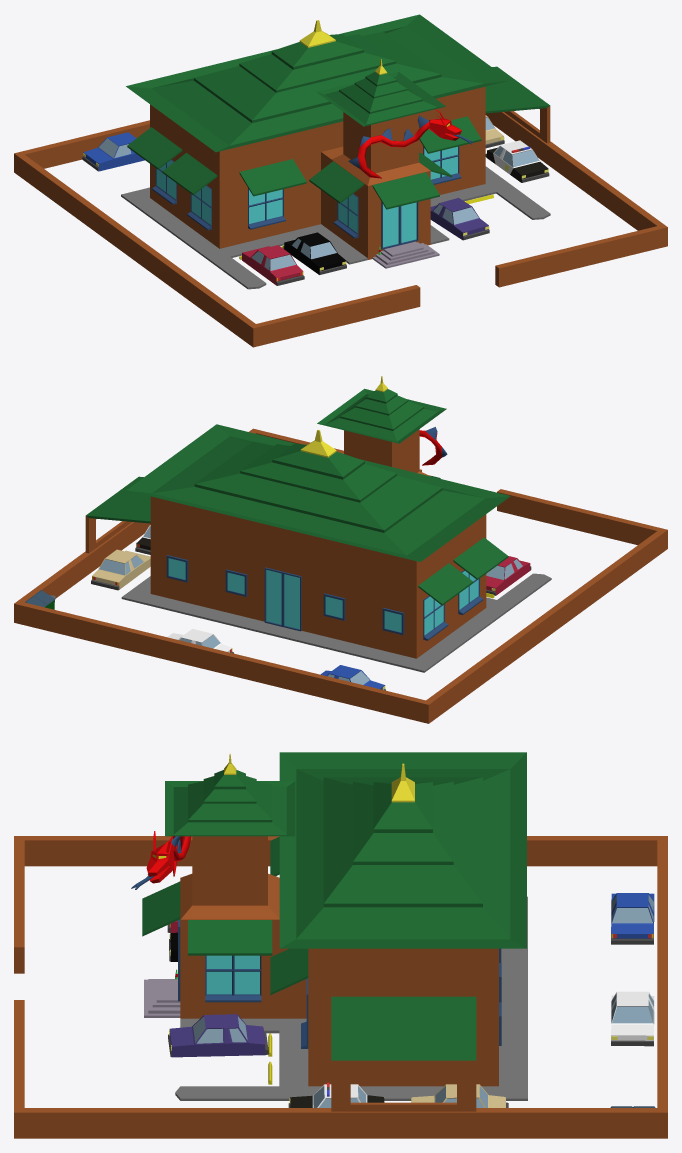
The picture shows the model from 3 angles, top to bottom: view 1: azimuth 30°, elevation 25°; view 2: azimuth 150°, elevation 25°; view 3: azimuth 270°, elevation 25°; orthographic projection. The views are drawn at different scales.
Visible parts, largest first — view 1: MAG_T2_16_PERRONE_01.001, Police_Car, Car.005, Car, Car.001, Car.003; view 2: MAG_T2_16_PERRONE_01.001, Car.002, Car, Car.003, Car.004; view 3: MAG_T2_16_PERRONE_01.001, Car.001, Car.004, Car.003, Police_Car, Car.002.
Part boxes in pixels (x1=…): MAG_T2_16_PERRONE_01.001: x1=14, y1=14, x2=667, y2=347; Police_Car: x1=485, y1=140, x2=549, y2=182; Car.005: x1=283, y1=232, x2=346, y2=274; Car: x1=241, y1=245, x2=304, y2=285; Car.001: x1=430, y1=198, x2=489, y2=240; Car.003: x1=82, y1=132, x2=144, y2=171; MAG_T2_16_PERRONE_01.001: x1=14, y1=376, x2=667, y2=723; Car.002: x1=91, y1=549, x2=150, y2=590; Car: x1=486, y1=556, x2=531, y2=595; Car.003: x1=320, y1=665, x2=385, y2=690; Car.004: x1=167, y1=629, x2=233, y2=653; MAG_T2_16_PERRONE_01.001: x1=14, y1=752, x2=667, y2=1138; Car.001: x1=168, y1=1014, x2=268, y2=1057; Car.004: x1=611, y1=991, x2=654, y2=1046; Car.003: x1=611, y1=893, x2=654, y2=944; Police_Car: x1=288, y1=1082, x2=384, y2=1107; Car.002: x1=411, y1=1084, x2=508, y2=1107.
Size of the model in its own units: 398 by 165 by 398.
